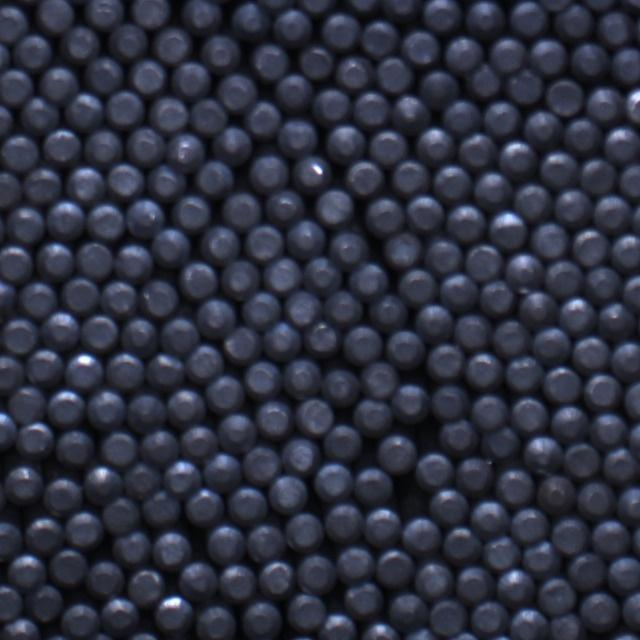tool: (127, 392, 167, 433), (196, 299, 237, 339), (506, 252, 546, 293), (268, 475, 308, 515), (377, 434, 417, 474), (220, 259, 260, 299), (580, 592, 620, 632), (38, 312, 78, 352), (241, 600, 281, 640), (448, 202, 488, 242), (152, 228, 192, 268), (157, 596, 197, 636), (445, 526, 485, 566), (403, 515, 443, 555), (524, 434, 564, 474), (366, 196, 406, 236), (500, 140, 540, 180), (540, 149, 580, 189), (283, 358, 322, 399), (226, 486, 267, 525), (231, 0, 272, 39), (87, 388, 126, 429), (207, 522, 246, 563), (419, 70, 461, 108), (24, 514, 64, 553), (105, 90, 144, 130), (125, 197, 165, 236), (296, 398, 336, 437), (126, 126, 165, 166), (390, 384, 429, 424), (47, 198, 86, 238), (326, 502, 365, 542), (202, 451, 241, 491), (323, 12, 363, 51), (337, 544, 376, 584), (286, 219, 325, 259), (592, 518, 632, 557), (199, 226, 239, 265), (304, 256, 343, 296), (84, 464, 123, 504), (328, 123, 368, 162), (63, 92, 103, 131), (34, 242, 73, 282), (112, 241, 152, 280), (121, 315, 160, 355), (526, 110, 565, 150), (514, 182, 553, 222), (475, 169, 514, 209), (4, 465, 42, 506), (298, 553, 336, 594), (365, 506, 403, 547), (262, 322, 301, 361), (314, 462, 353, 501), (241, 445, 280, 484), (415, 562, 454, 601), (386, 329, 425, 368), (539, 474, 578, 513), (274, 9, 313, 48), (594, 195, 633, 234), (160, 317, 199, 356), (48, 389, 87, 428), (456, 564, 495, 603), (316, 188, 355, 227), (252, 154, 291, 193), (494, 319, 533, 358), (531, 37, 570, 76), (38, 66, 78, 104), (277, 118, 317, 156), (353, 466, 393, 504), (201, 34, 241, 72), (213, 125, 253, 163), (344, 326, 384, 364), (18, 279, 58, 317), (218, 414, 256, 454), (596, 9, 636, 47), (148, 164, 188, 202), (178, 562, 218, 600), (572, 42, 612, 80), (556, 188, 594, 228), (430, 488, 470, 526), (416, 126, 456, 164), (472, 498, 512, 536), (390, 594, 430, 632), (599, 302, 639, 340), (344, 582, 384, 620), (546, 77, 585, 115), (241, 290, 280, 328), (50, 548, 89, 586), (361, 19, 399, 58), (180, 260, 219, 298), (107, 350, 146, 388), (284, 511, 323, 549), (243, 360, 281, 399), (167, 133, 206, 171), (572, 227, 610, 266), (441, 272, 480, 310), (244, 224, 283, 262), (110, 22, 149, 60), (224, 191, 262, 230), (445, 36, 484, 74), (490, 211, 528, 250), (552, 518, 591, 556), (407, 194, 446, 232), (64, 349, 102, 388), (348, 262, 387, 300), (377, 548, 415, 587), (141, 490, 180, 528), (205, 374, 244, 412), (539, 576, 578, 614), (292, 154, 331, 192), (523, 538, 562, 576), (65, 165, 104, 203), (435, 164, 473, 203), (128, 567, 166, 606), (280, 437, 318, 476), (167, 388, 205, 427), (415, 304, 454, 342), (392, 94, 431, 132), (216, 72, 256, 109), (17, 99, 57, 136), (324, 291, 364, 328), (370, 128, 410, 165), (522, 289, 562, 326), (265, 189, 306, 225), (76, 240, 114, 278), (26, 347, 64, 385), (246, 523, 284, 561), (184, 489, 222, 527), (154, 530, 192, 568), (185, 342, 223, 380), (18, 420, 56, 458), (174, 60, 212, 98), (256, 400, 294, 438), (5, 205, 43, 243), (64, 510, 102, 548), (224, 326, 262, 364), (579, 480, 617, 518), (140, 279, 178, 317), (196, 159, 234, 197), (384, 230, 422, 268), (123, 462, 161, 500), (401, 268, 439, 306), (535, 327, 573, 365), (565, 117, 603, 155), (104, 598, 142, 636), (512, 396, 550, 434), (584, 83, 622, 121), (456, 457, 494, 495), (496, 468, 534, 506), (499, 569, 537, 607), (43, 476, 82, 513), (353, 399, 392, 436), (154, 27, 193, 64), (150, 96, 189, 133), (86, 201, 125, 238), (108, 165, 147, 202), (264, 258, 303, 295), (345, 158, 384, 195), (100, 278, 137, 317), (441, 419, 480, 456), (604, 123, 640, 163), (510, 0, 550, 36), (162, 458, 202, 494), (195, 604, 235, 640), (84, 128, 124, 164), (402, 28, 442, 64), (330, 230, 370, 266), (465, 0, 506, 35), (253, 42, 291, 79), (44, 128, 82, 165), (512, 508, 550, 545), (82, 313, 120, 350), (102, 497, 140, 534), (57, 430, 95, 467), (172, 195, 210, 232), (546, 261, 584, 298), (489, 36, 526, 74), (507, 66, 545, 103), (416, 449, 454, 486), (570, 551, 608, 588), (579, 157, 617, 194), (304, 321, 342, 358), (288, 593, 326, 630), (88, 561, 126, 598), (276, 73, 314, 110), (141, 429, 179, 466), (371, 294, 408, 332), (532, 222, 570, 259), (465, 349, 503, 386), (13, 34, 52, 70), (22, 166, 61, 202), (61, 26, 100, 62), (430, 598, 469, 634), (85, 56, 124, 92), (62, 276, 101, 312), (144, 352, 183, 388), (560, 296, 596, 335), (458, 131, 497, 167), (192, 98, 229, 135), (471, 392, 508, 429), (8, 386, 45, 423), (468, 243, 504, 281), (7, 554, 45, 590), (0, 134, 38, 170), (283, 289, 321, 325), (26, 584, 64, 620), (220, 564, 258, 600), (353, 90, 391, 126), (324, 425, 362, 461), (432, 385, 470, 421), (556, 2, 594, 38), (323, 368, 361, 404), (454, 314, 492, 350), (604, 446, 640, 484), (360, 360, 398, 396), (583, 370, 621, 406), (481, 280, 517, 318), (546, 366, 584, 402), (394, 162, 432, 198), (316, 85, 354, 121), (245, 99, 281, 137), (443, 99, 482, 134), (1, 316, 38, 352), (375, 56, 412, 92), (260, 559, 296, 596), (484, 100, 521, 136), (338, 55, 376, 90), (473, 602, 511, 637), (507, 355, 545, 390), (484, 536, 522, 571), (114, 531, 152, 566), (428, 342, 466, 377), (592, 412, 628, 448), (552, 405, 588, 441), (574, 335, 610, 371), (426, 238, 462, 274), (468, 64, 504, 100), (586, 267, 622, 303), (132, 58, 167, 95), (102, 431, 139, 466), (184, 0, 222, 34), (62, 602, 100, 636), (422, 0, 462, 32), (300, 45, 336, 80), (564, 441, 600, 476), (511, 607, 549, 640), (483, 425, 521, 458), (182, 424, 218, 458), (0, 243, 32, 281), (36, 0, 74, 32), (0, 67, 32, 105), (609, 554, 640, 592), (85, 0, 124, 30), (611, 339, 640, 379), (612, 231, 640, 271), (612, 47, 640, 85), (0, 3, 27, 42), (130, 0, 170, 26), (320, 613, 358, 640), (550, 613, 584, 640), (0, 352, 24, 390), (618, 484, 640, 524), (0, 520, 22, 559), (2, 617, 39, 640), (0, 583, 23, 619), (0, 170, 21, 207), (360, 621, 400, 640), (384, 0, 426, 18), (622, 589, 640, 630), (620, 163, 640, 198), (0, 276, 16, 319), (0, 409, 17, 449), (624, 83, 640, 124), (624, 272, 640, 312), (342, 0, 384, 15), (625, 378, 640, 419), (403, 627, 445, 640), (298, 0, 338, 13), (628, 419, 640, 456), (0, 104, 13, 138), (580, 0, 622, 10), (537, 0, 577, 10), (122, 631, 164, 640), (257, 1, 297, 10), (0, 39, 10, 74), (447, 631, 482, 640), (83, 632, 119, 640), (605, 632, 640, 640), (41, 633, 80, 640), (484, 634, 517, 640)
